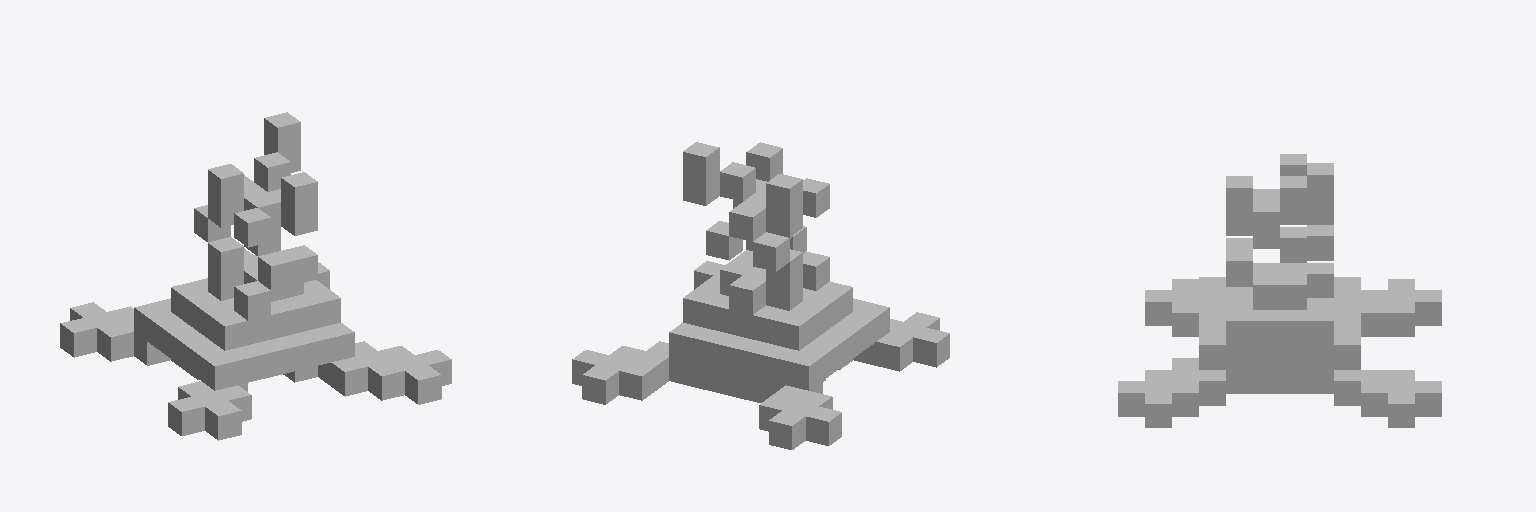
Rendered from campfire.obj.
3 views of the same model, side by side, from view 1: azimuth 30°, elevation 25°; view 2: azimuth 150°, elevation 25°; view 3: azimuth 270°, elevation 25° (orthographic).
Visible parts, largest first — view 1: object 1; view 2: object 1; view 3: object 1.
Part boxes in pixels (x1,y1,x2,y2): object 1: (60,112,451,440); object 1: (572,142,949,449); object 1: (1118,154,1441,427).
Bounding box in the file's own units: 1.1 × 0.9 × 1.2.